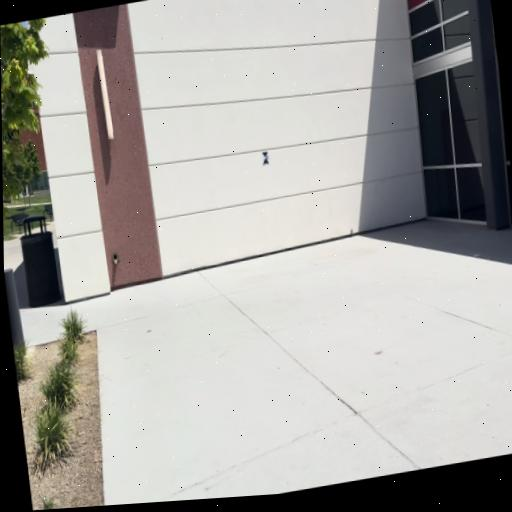target0: (262, 151, 270, 166)
